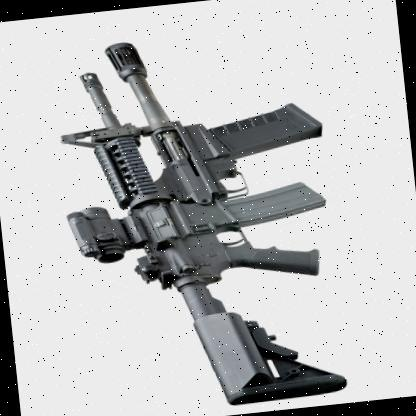rifle: (21, 22, 378, 416)
